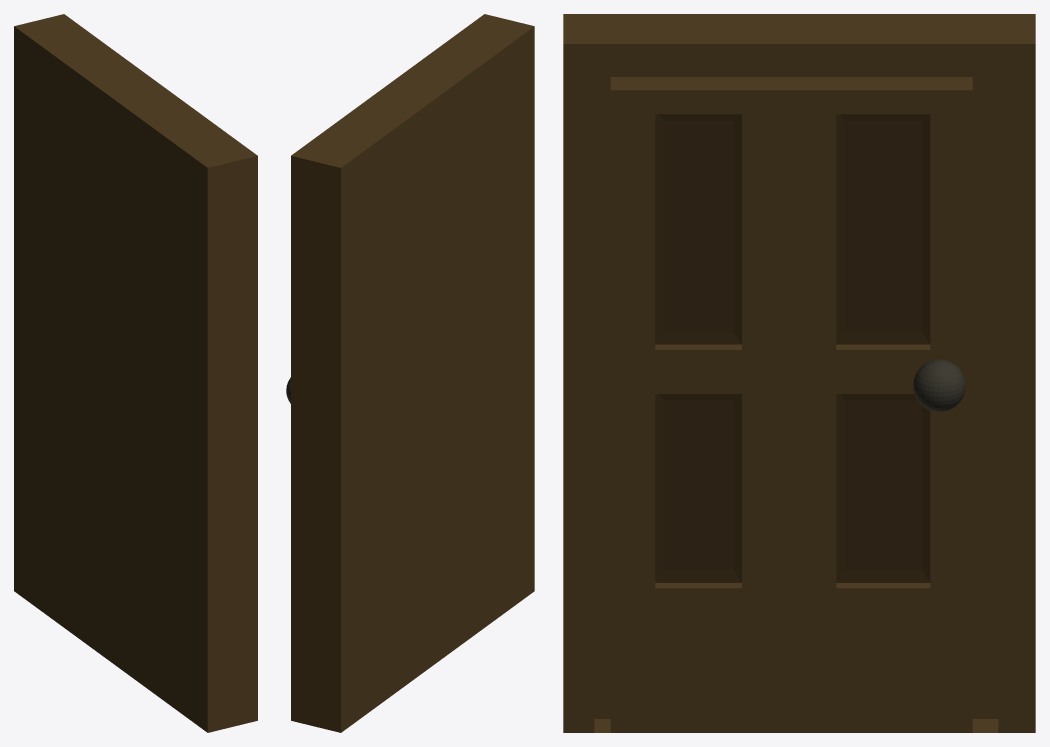
File: door.fbx
The picture shows the model from 3 angles, left to right: view 1: azimuth 30°, elevation 25°; view 2: azimuth 150°, elevation 25°; view 3: azimuth 270°, elevation 25°; orthographic projection. The views are drawn at different scales.
Parts seen in each view (by area): view 1: door, door.001; view 2: door, door.001; view 3: door, door.001.
Boxes of the visible parts, <box> form: door: <box>14,25,257,732</box>; door.001: <box>14,14,257,194</box>; door: <box>286,23,534,732</box>; door.001: <box>291,14,534,194</box>; door: <box>563,14,1035,732</box>; door.001: <box>563,14,1035,76</box>.
Size of the model in its own units: 73.39 by 433 by 269.
